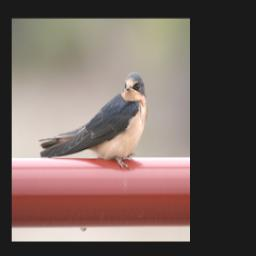Swallow: (38, 69, 148, 175)
